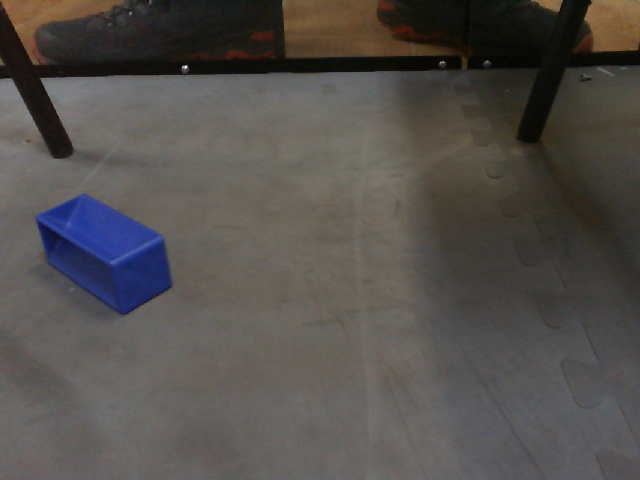BlueSample: (29, 187, 174, 321)
